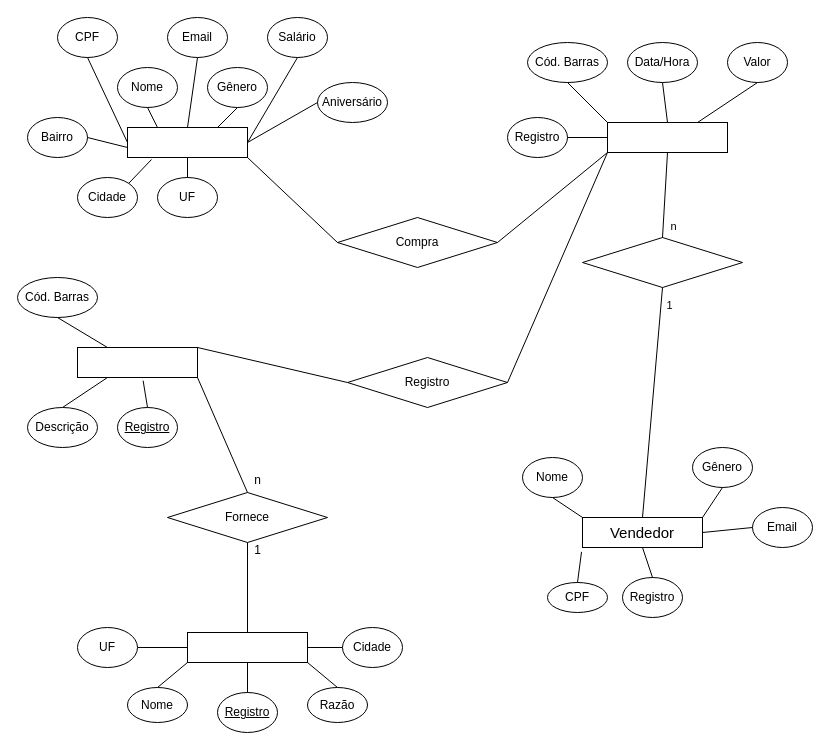
Image size: 830x750. Some labels were removed from this diagram. Each missing label, with the centre of its shape:
Cliente: the point at 187,142
Fornecedor: the point at 247,647
Produto: the point at 137,362
Venda: the point at 667,137
Vende: the point at 662,262
